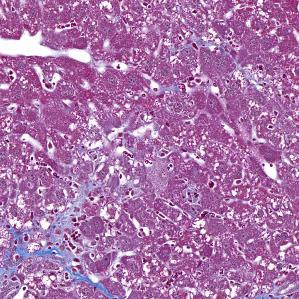fibrosis: (0, 205, 88, 276)
